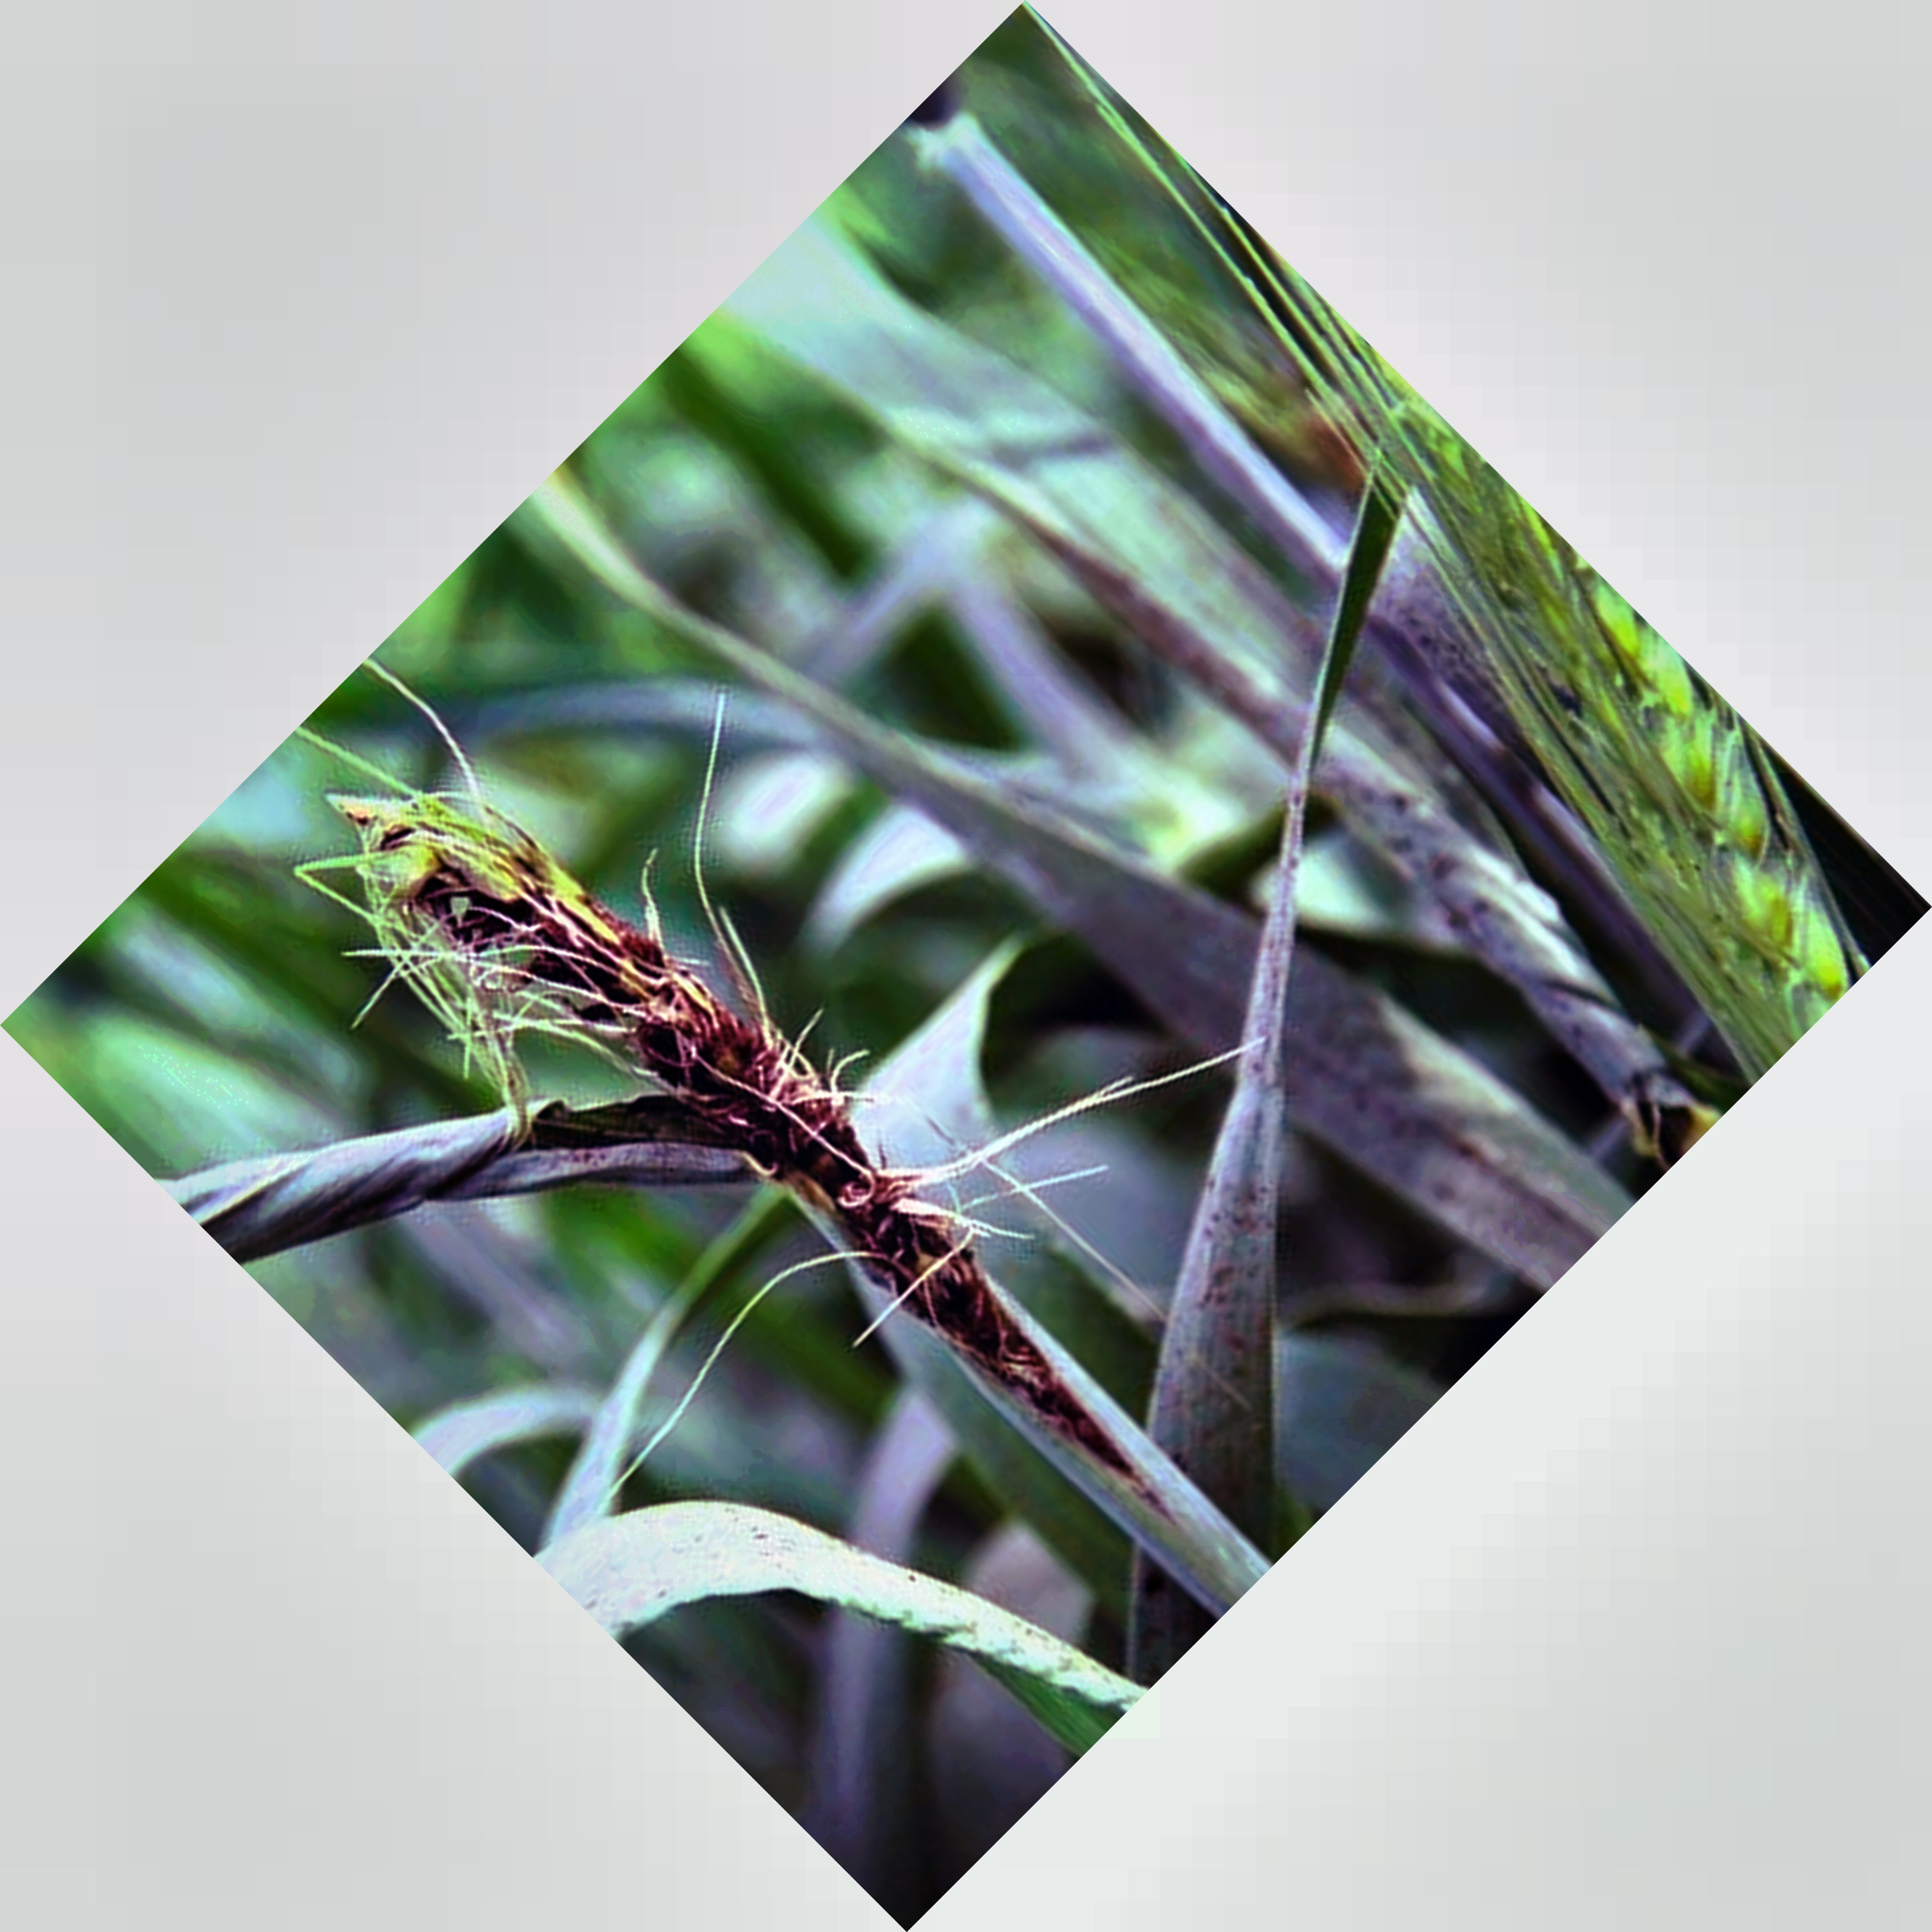Wheat Loose Smut: (449, 849, 996, 1293)
